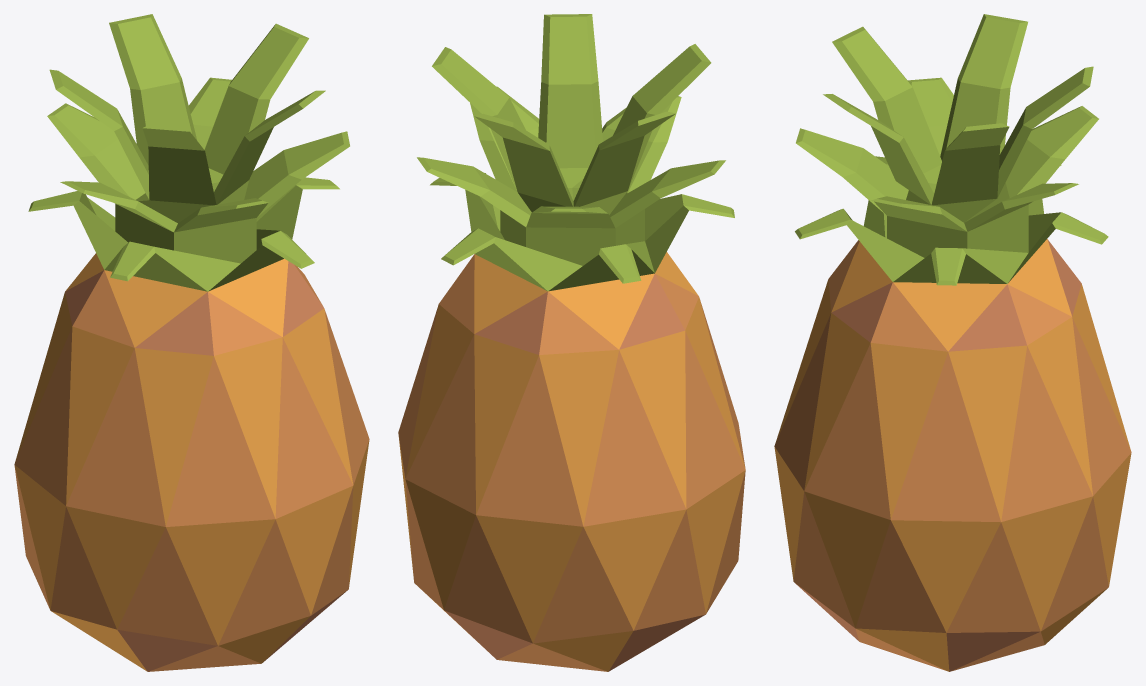
File: Pineapple_01.glb
3 renders of one model, left to right at view 1: azimuth 30°, elevation 25°; view 2: azimuth 150°, elevation 25°; view 3: azimuth 270°, elevation 25°, orthographic.
Visible parts, largest first — view 1: FoodPineapple_01; view 2: FoodPineapple_01; view 3: FoodPineapple_01.
Part boxes in pixels (x1=…): FoodPineapple_01: x1=14, y1=14, x2=369, y2=671; FoodPineapple_01: x1=398, y1=14, x2=745, y2=671; FoodPineapple_01: x1=774, y1=14, x2=1131, y2=671.
Size of what is drawn, in the model's own units: 0.2885 by 0.5406 by 0.2993.
Materials: 1 (1 with a texture image).
